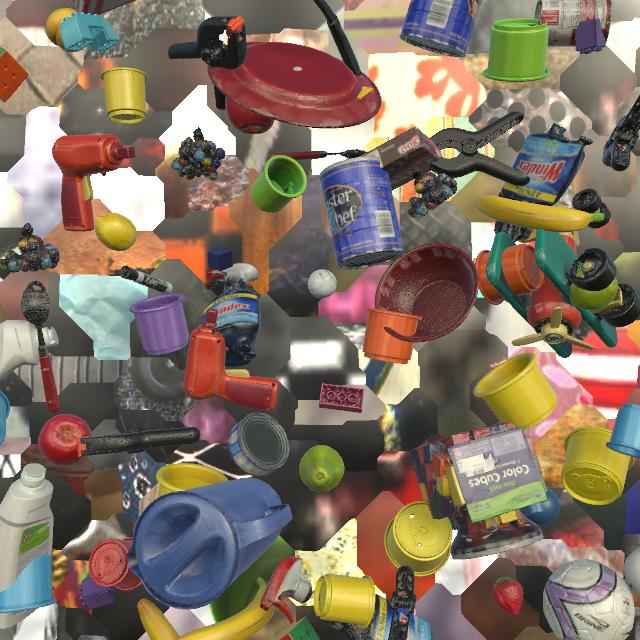ycb_002_master_chef_can: (319, 156, 405, 269), (399, 0, 483, 57)
ycb_003_cracker_box: (69, 0, 135, 15)
ycb_005_tomato_soup_can: (534, 0, 612, 47)
ycb_007_tuna_fish_can: (227, 412, 290, 477), (78, 634, 109, 640)
ycb_008_pudding_box: (359, 127, 443, 190)
ycb_011_banana: (175, 578, 276, 640), (475, 195, 605, 232), (137, 598, 180, 640)
ycb_012_strawberry: (493, 577, 523, 616)
ycb_013_apple: (38, 414, 92, 466), (225, 97, 274, 134)
ycb_014_lemon: (95, 213, 137, 251)
ycb_015_peach: (45, 8, 82, 52)
ycb_016_pear: (561, 267, 618, 311), (299, 445, 344, 492)
